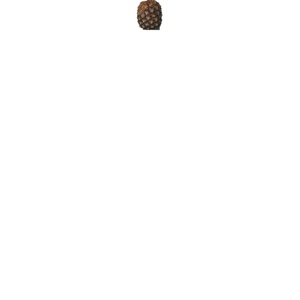abacaxi: (135, 1, 166, 35)
